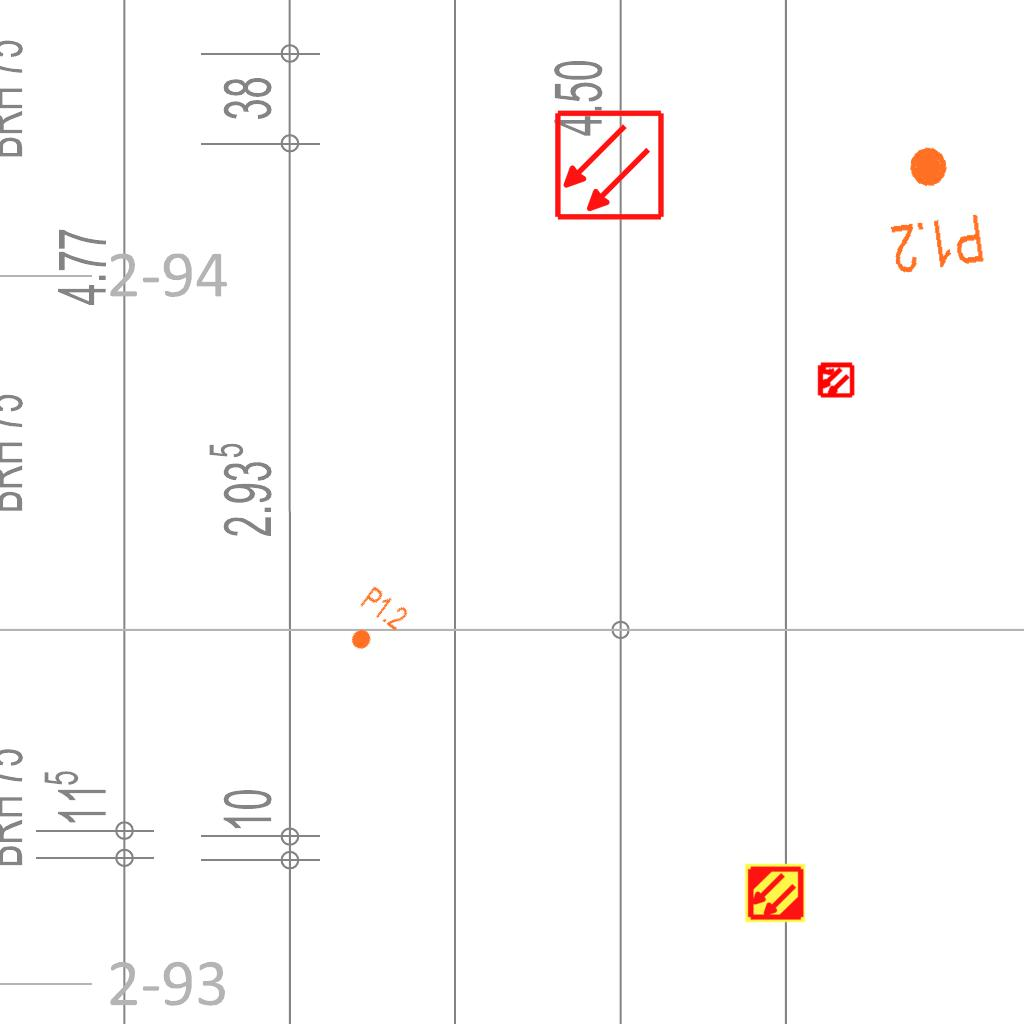ASR_Ansaugrauchmelder: (744, 862, 806, 924)
Downlight_LED_Einbauleuchten_Flur: (877, 138, 988, 278), (336, 583, 412, 663)
OT_Multisensormelder_(Kombination_RMO_WMD): (807, 352, 863, 408)
RMO_Rauchmelder_optischer: (553, 109, 666, 222)
